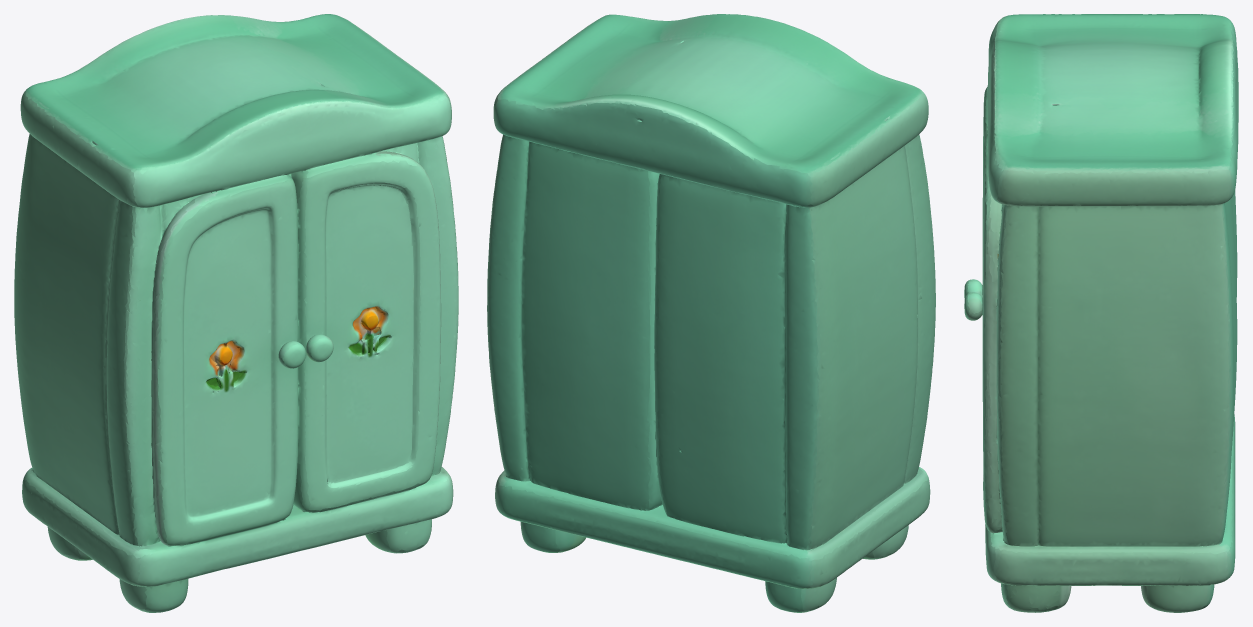
The model's file is fur_wardrobe.glb.
The picture shows the model from 3 angles, left to right: view 1: azimuth 30°, elevation 25°; view 2: azimuth 150°, elevation 25°; view 3: azimuth 270°, elevation 25°; orthographic projection.
Visible parts, largest first — view 1: geometry_0; view 2: geometry_0; view 3: geometry_0.
Part boxes in pixels (x1,y1,x2,y2): geometry_0: [14, 14, 458, 612]; geometry_0: [487, 14, 935, 612]; geometry_0: [964, 14, 1238, 612].
Bounding box in the file's own units: 0.1617 × 0.22 × 0.1129.
Materials: 1 (1 with a texture image).
